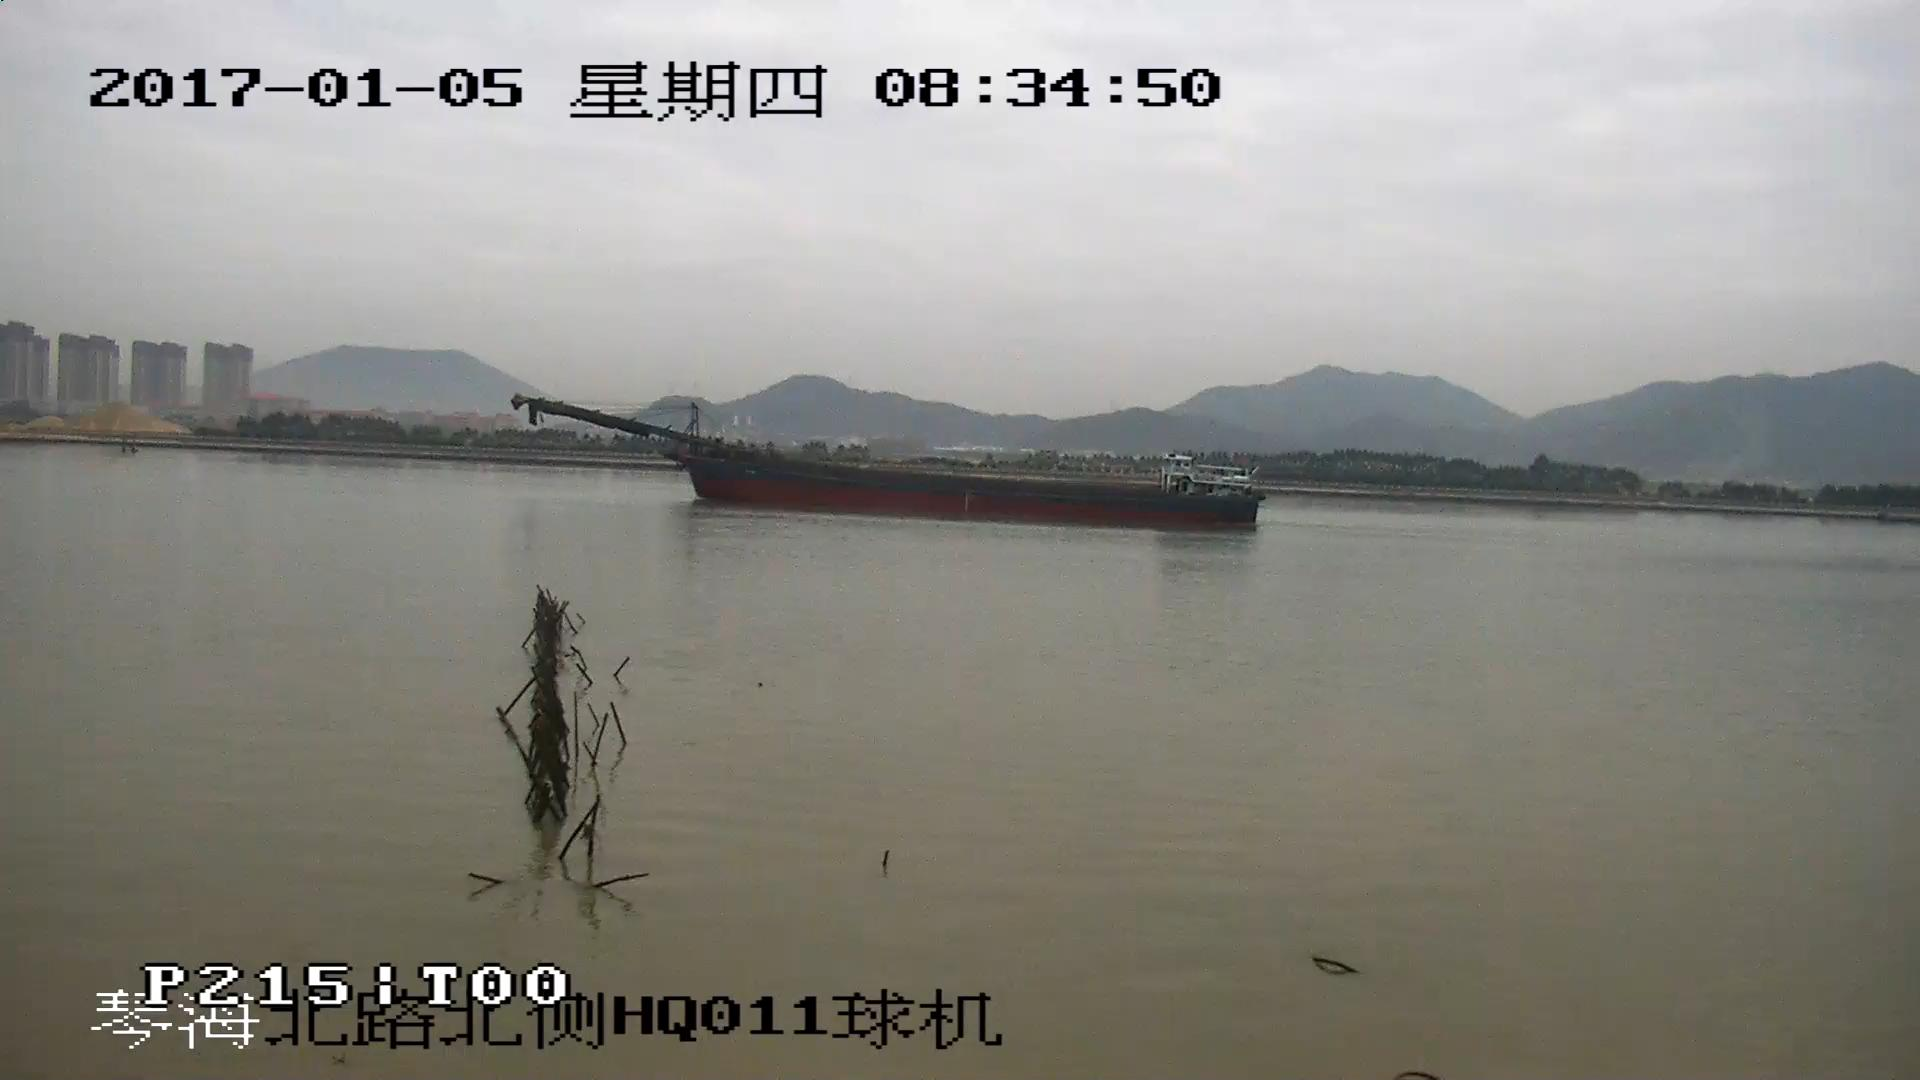bulk cargo carrier: (519, 396, 1263, 529)
